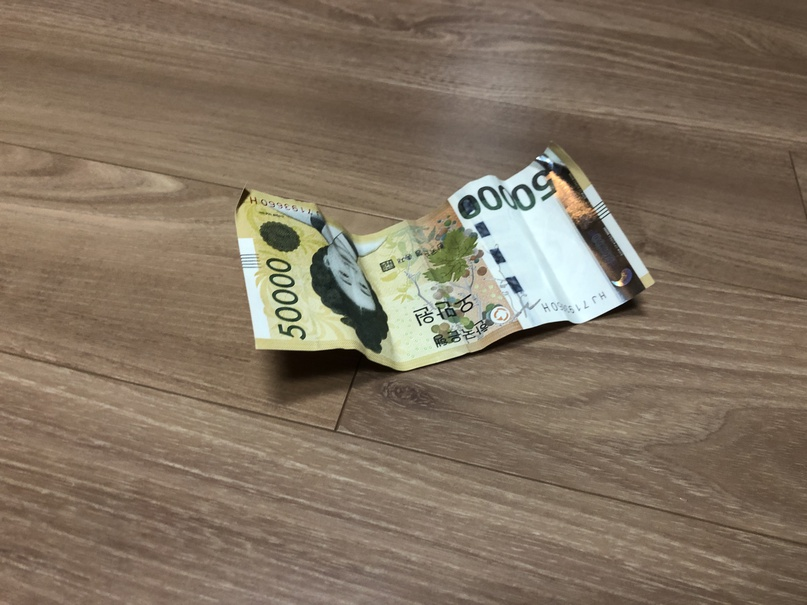50000won: (235, 141, 656, 373)
